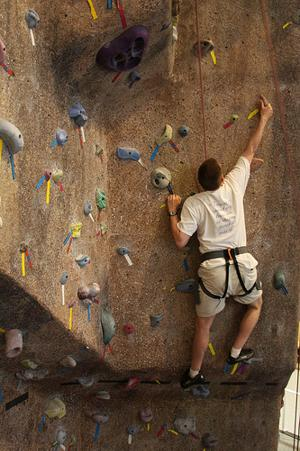person: (166, 98, 274, 390)
